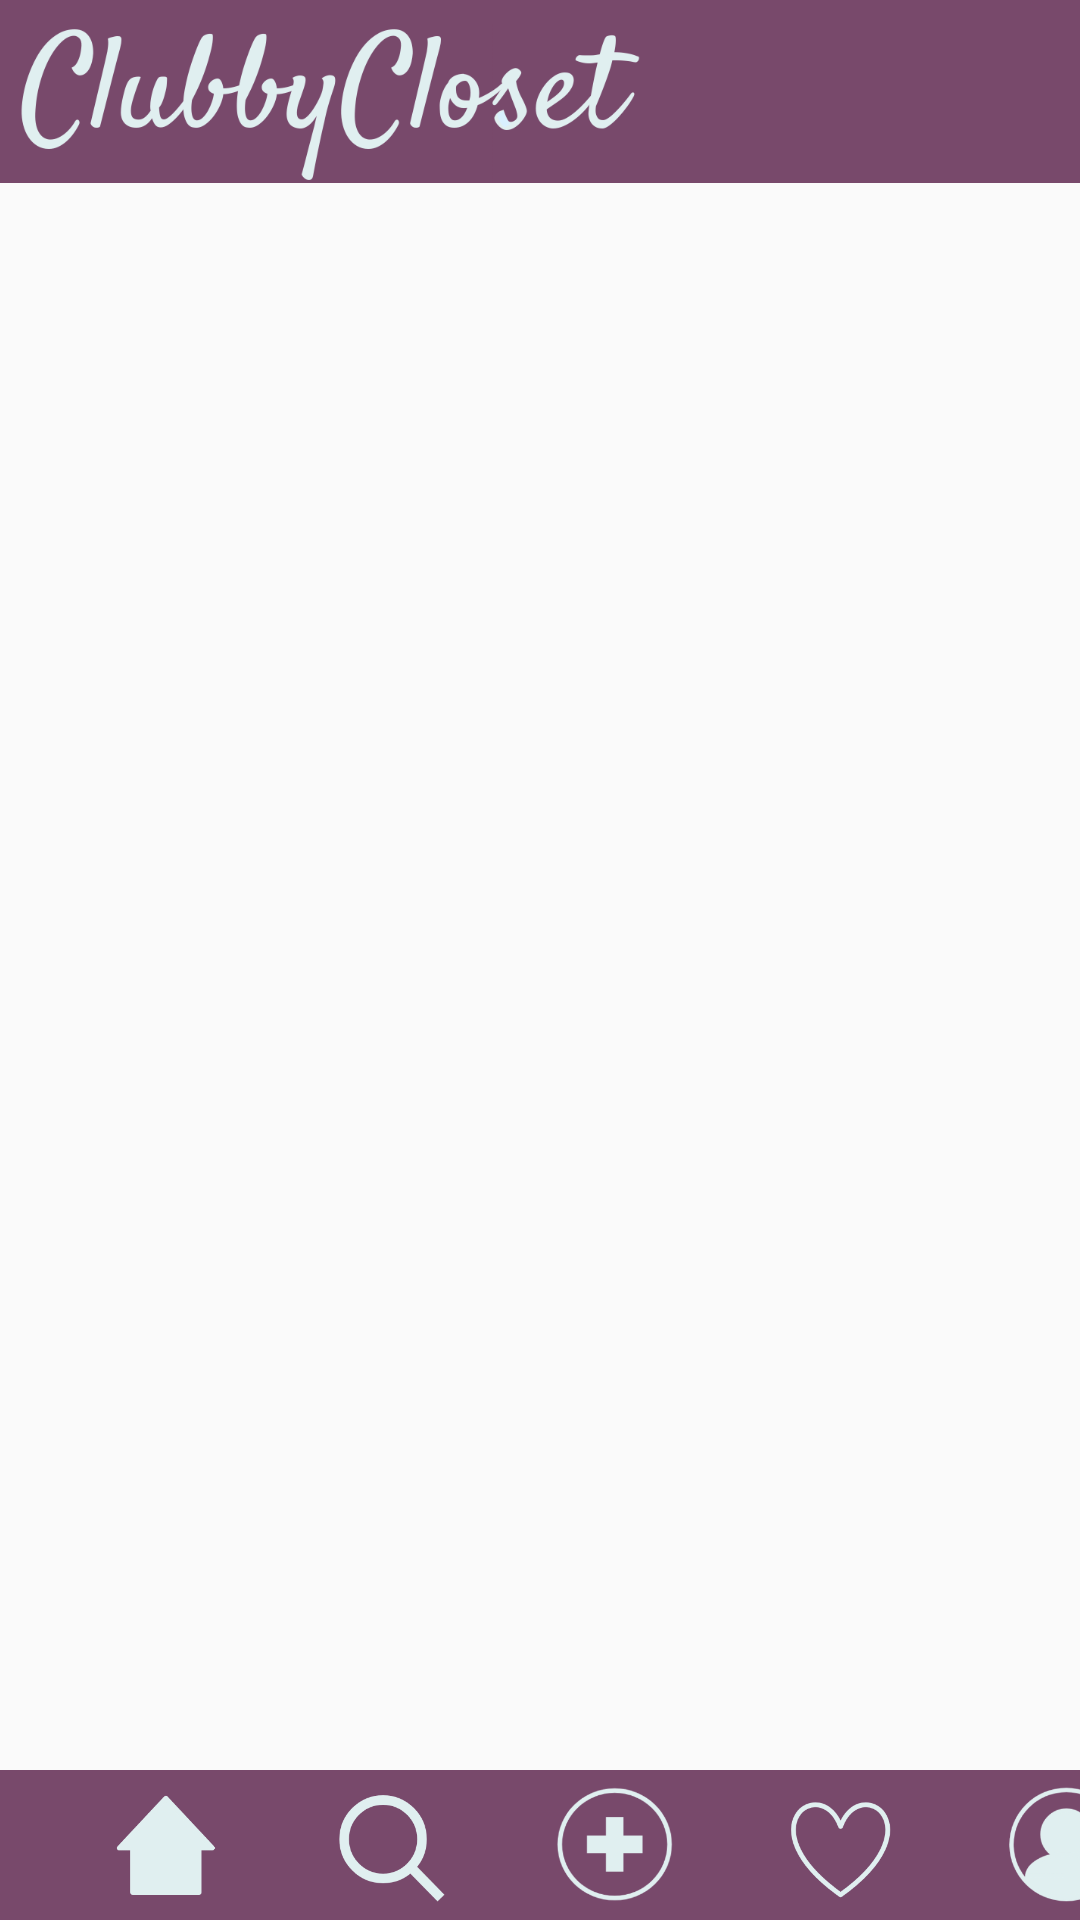

Where to tap for icons on this 1080px x 1920px app screen, as (x,y):
add: (614,1844)
home: (166,1845)
search: (392,1848)
